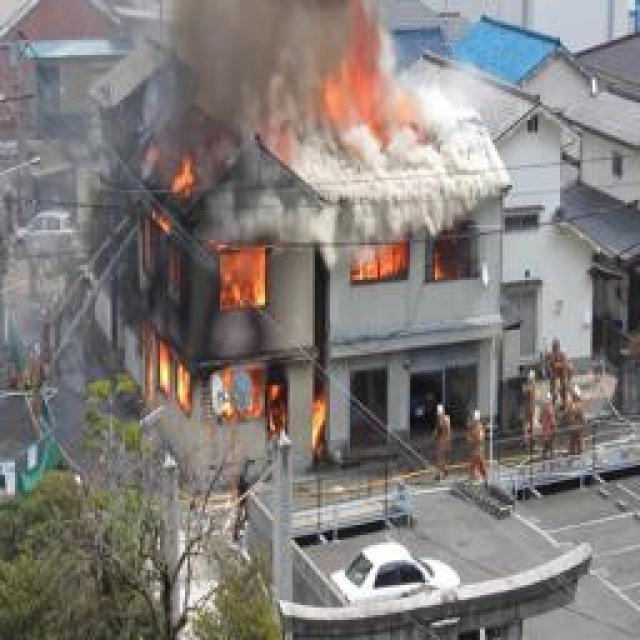Fire: (136, 146, 341, 457), (323, 38, 435, 149), (354, 235, 471, 285)
